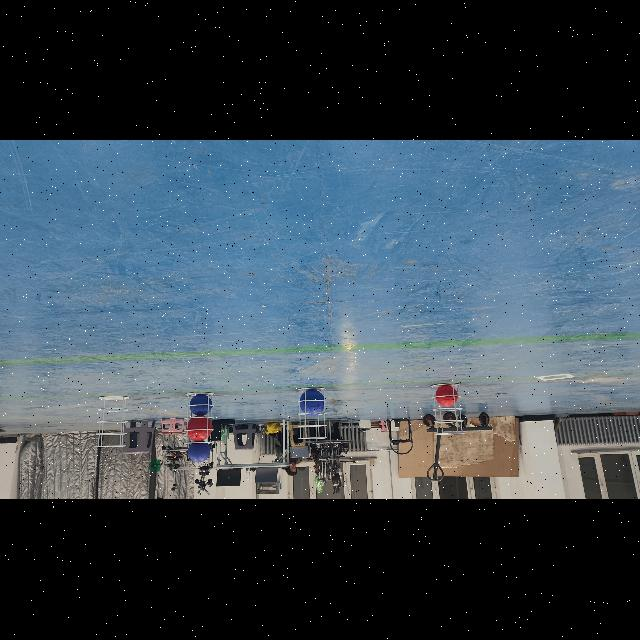B: (296, 390, 326, 414), (189, 395, 211, 417), (188, 442, 210, 463)
R: (186, 418, 212, 440), (436, 388, 460, 408)
S: (424, 384, 468, 438), (94, 394, 134, 450), (293, 388, 333, 442), (181, 391, 217, 447)
